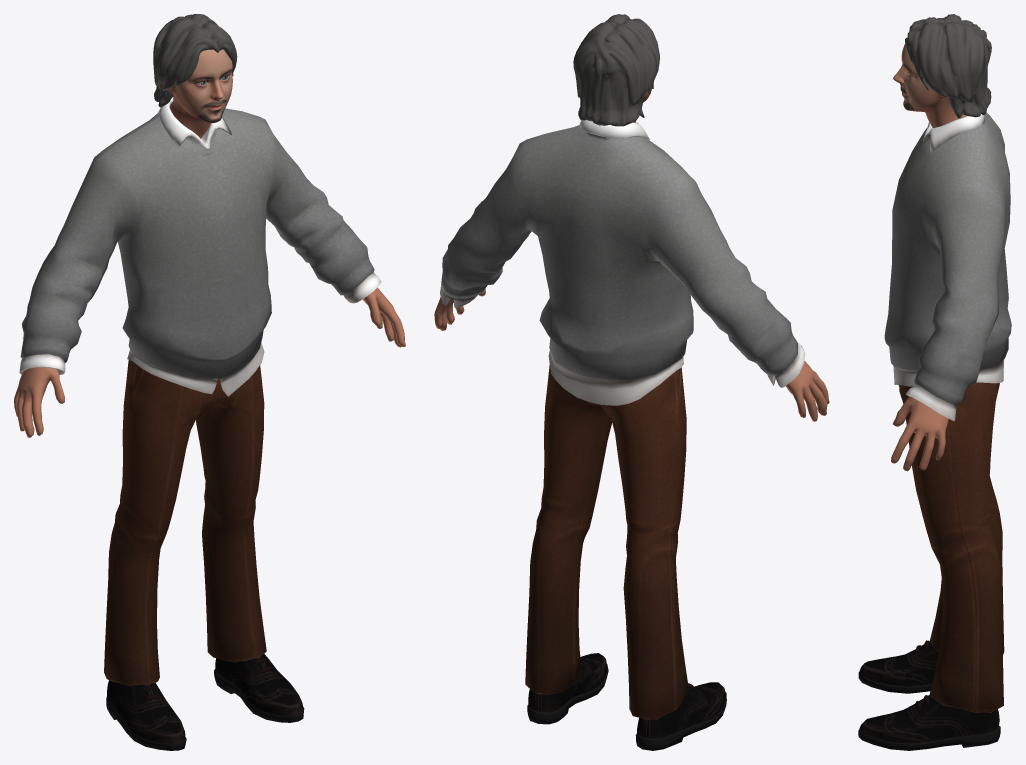
The model's file is ManAnimationLong.fbx.
The picture shows the model from 3 angles, left to right: view 1: azimuth 30°, elevation 25°; view 2: azimuth 150°, elevation 25°; view 3: azimuth 270°, elevation 25°; orthographic projection.
Parts seen in each view (by area): view 1: Wolf3D_Avatar; view 2: Wolf3D_Avatar; view 3: Wolf3D_Avatar.
Boxes of the visible parts, x1=… form: Wolf3D_Avatar: x1=14, y1=14, x2=405, y2=750; Wolf3D_Avatar: x1=434, y1=14, x2=829, y2=750; Wolf3D_Avatar: x1=858, y1=14, x2=1011, y2=750.
Bounding box in the file's own units: 1.06 × 1.85 × 0.3705.
Materials: 1 (1 with a texture image).
